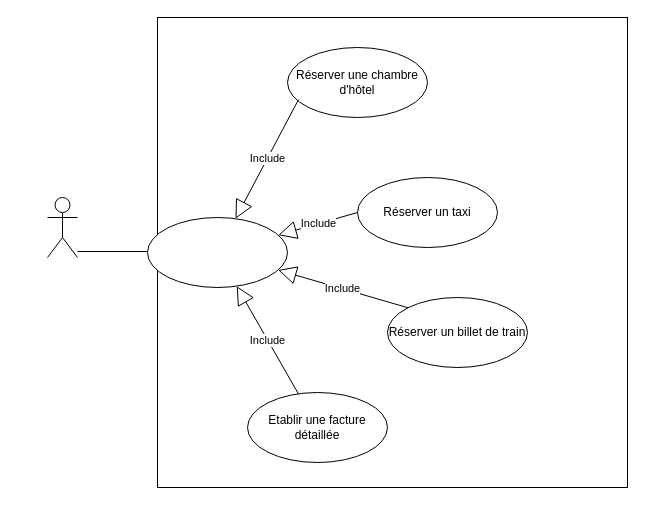
Some shapes in this 645 by 505 pixel diagram are drawn without their labels. Here are the shapes that lost their labels. From the top down, the centre of each, then its label:
(62,227): Agent de voyage
(217,252): Organiser un voyage
